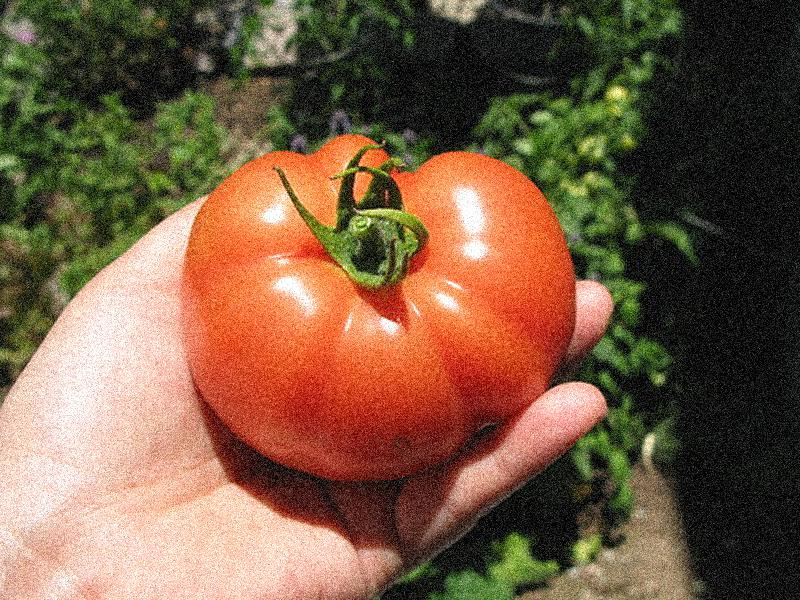Tomato: (184, 134, 576, 475)
